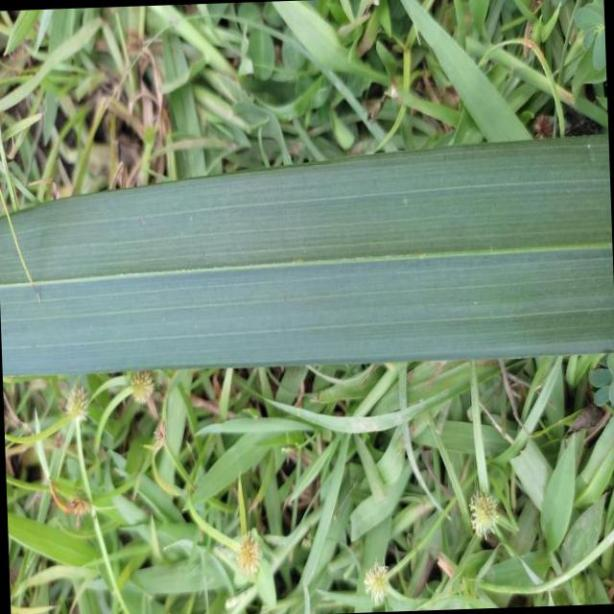Healthy: (0, 134, 614, 381)
